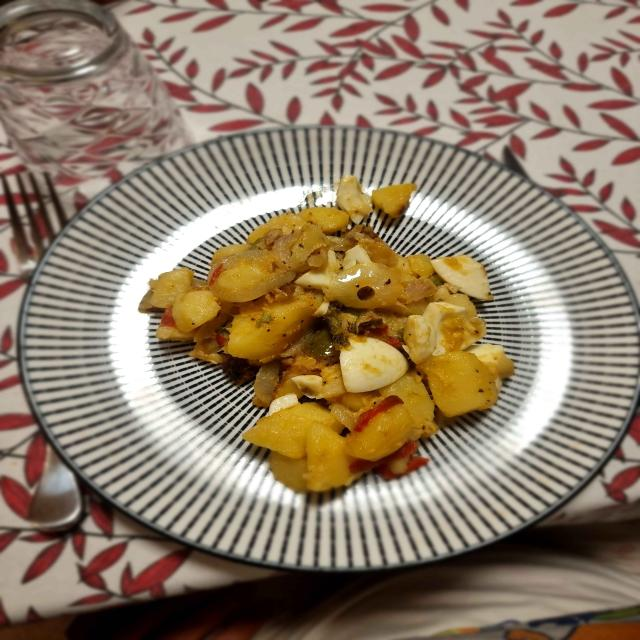baked potatoes: (139, 207, 349, 406), (243, 352, 513, 491)
boiled egg: (401, 255, 492, 364), (340, 333, 409, 393), (330, 246, 369, 280)
garbage: (286, 239, 436, 361)
plate: (20, 126, 640, 570)
